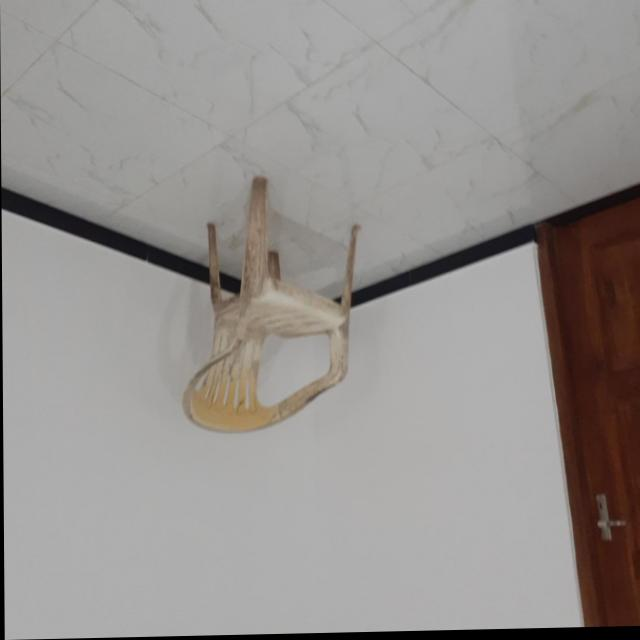Chair: (181, 176, 363, 437)
